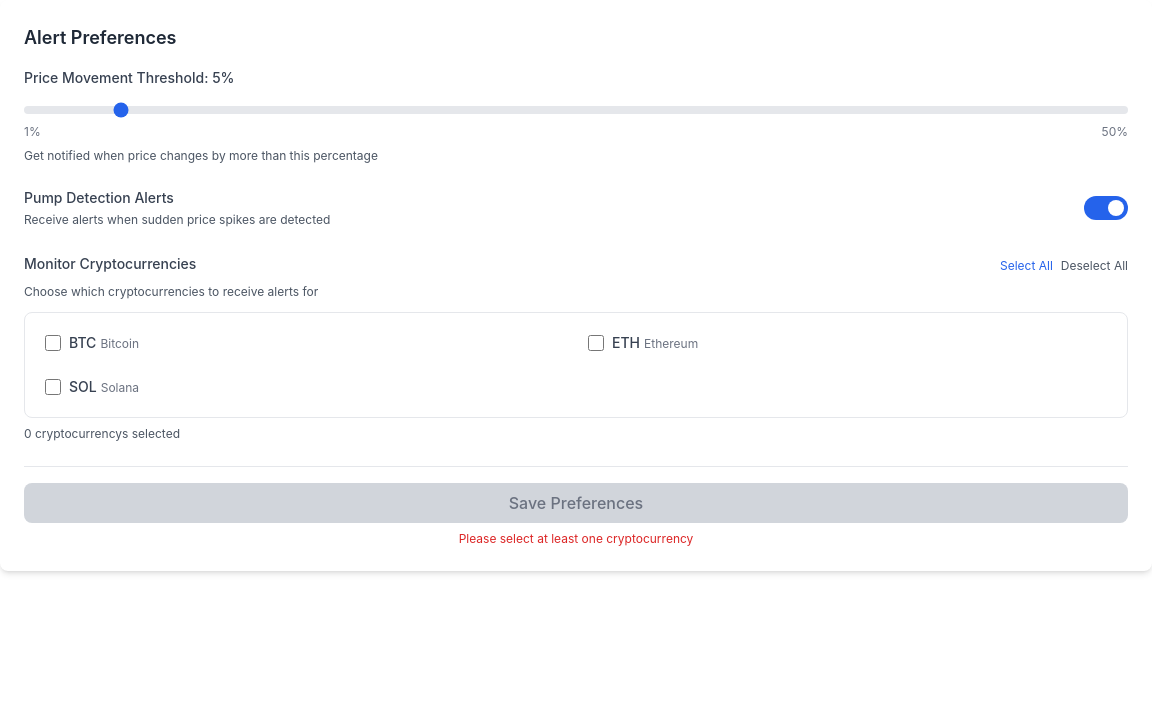
AlertPreferences › should save preferences to API when save button is clicked
Expected: the text "Price Movement Threshold: 5%" is shown, 24,69 -> 234,86
# Change threshold
Set the slider to "15": (343, 110) 24,106 -> 1128,114
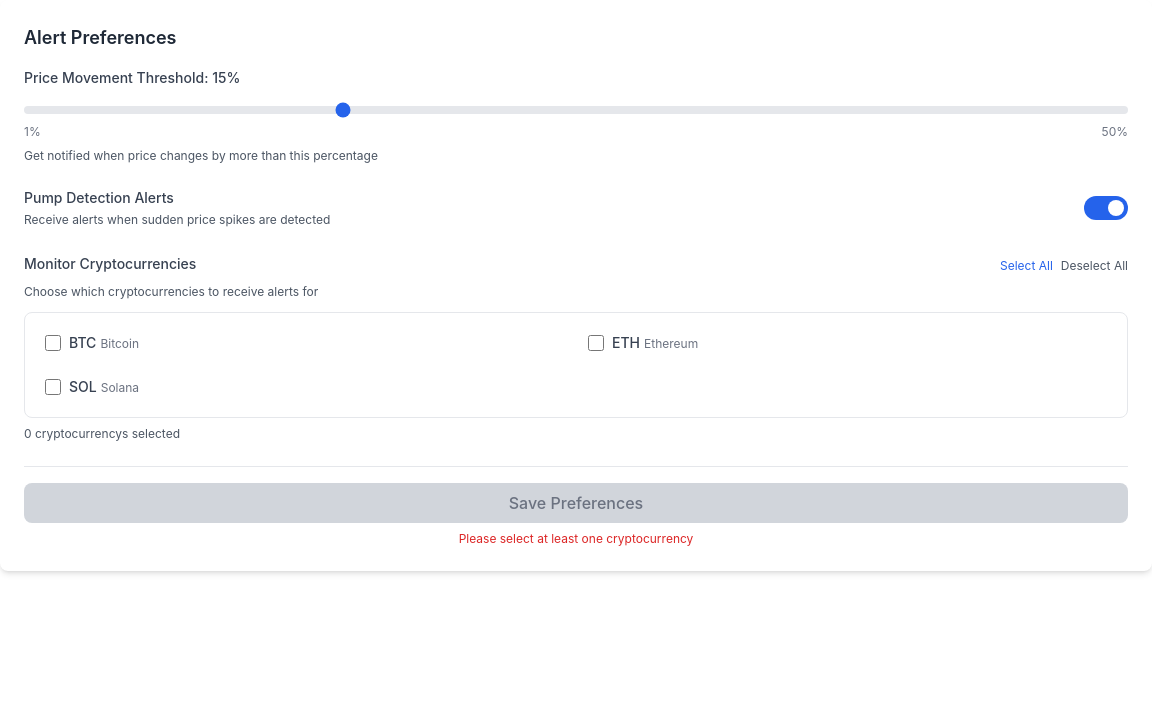
# Disable pump alerts
Click the 1st button: (1106, 208) 1084,196 -> 1128,220
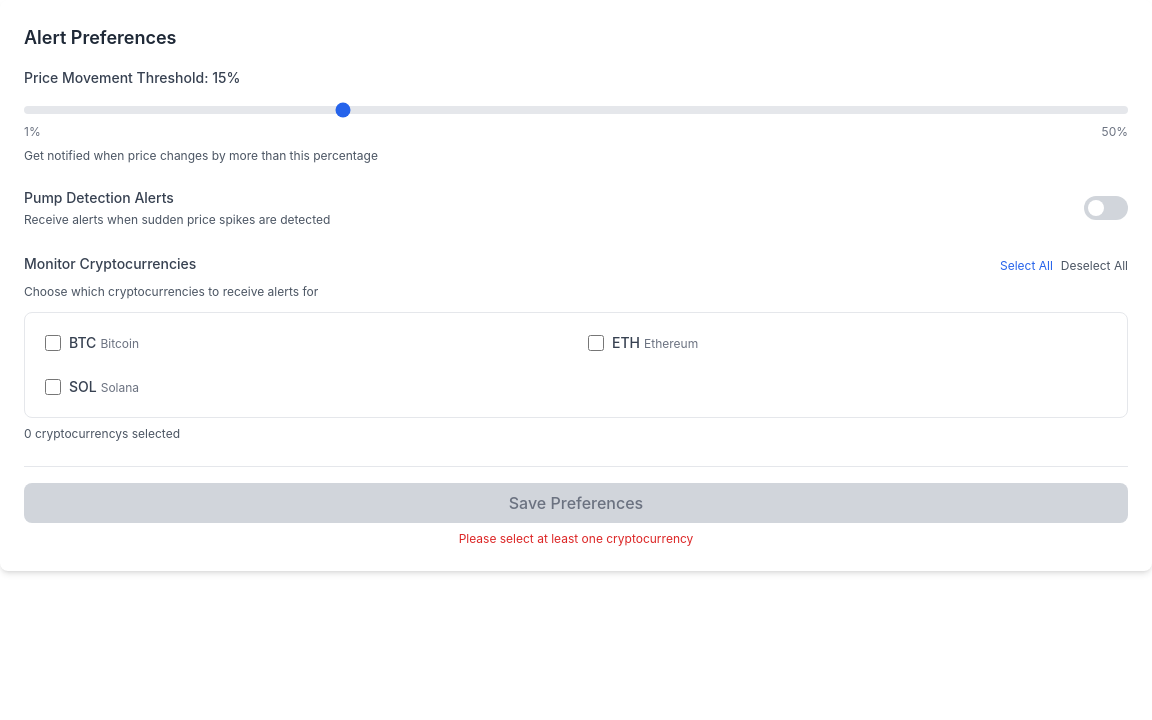
# Select cryptocurrencies
Click the checkbox labelled "BTC": (53, 343) 45,335 -> 61,351
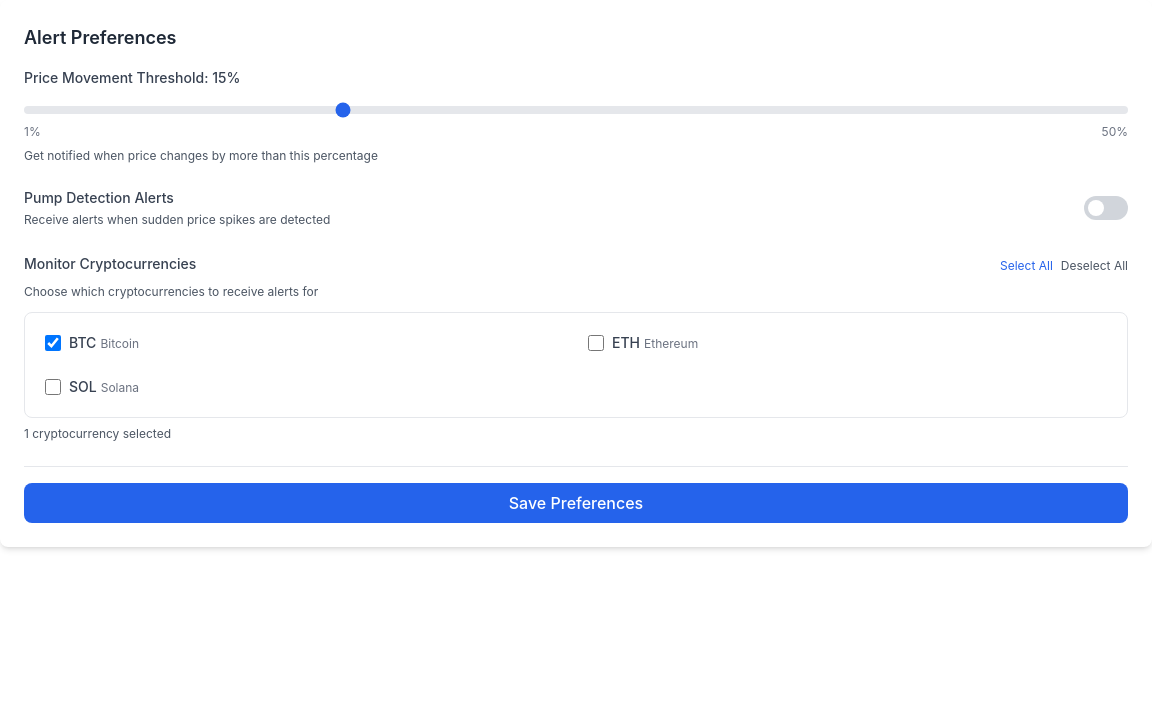
Click the checkbox labelled "ETH": (596, 343) 588,335 -> 604,351
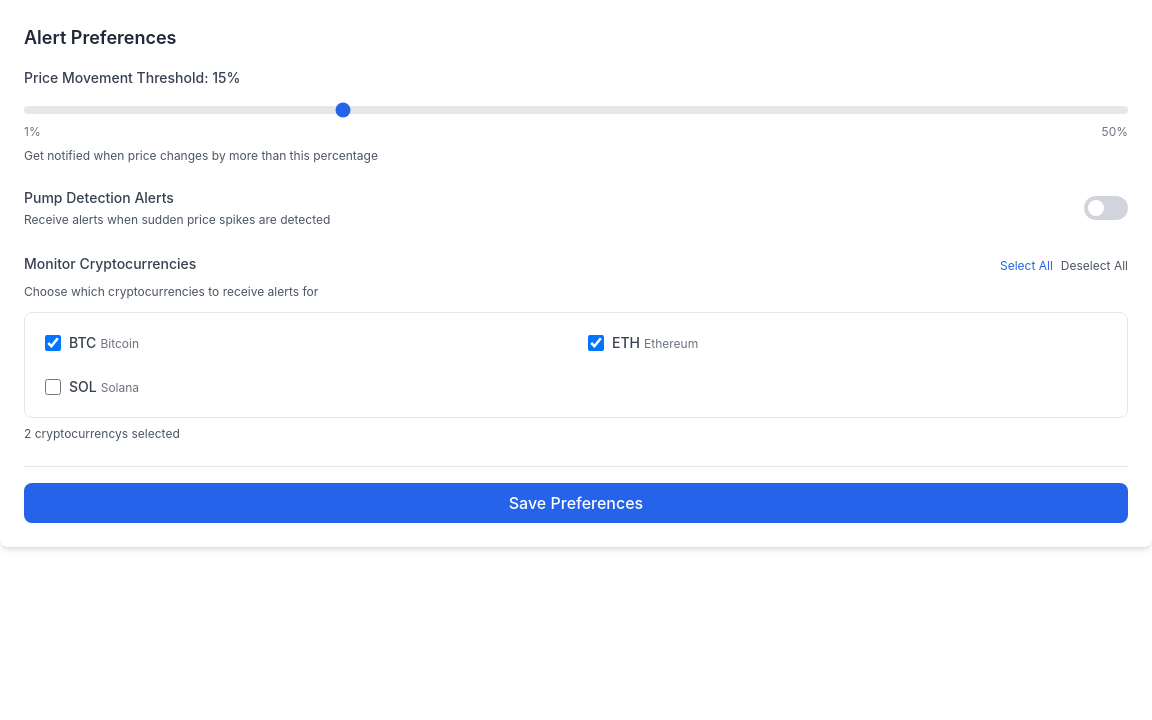
# Click save
Click the button "Save Preferences": (576, 503) 24,483 -> 1128,523
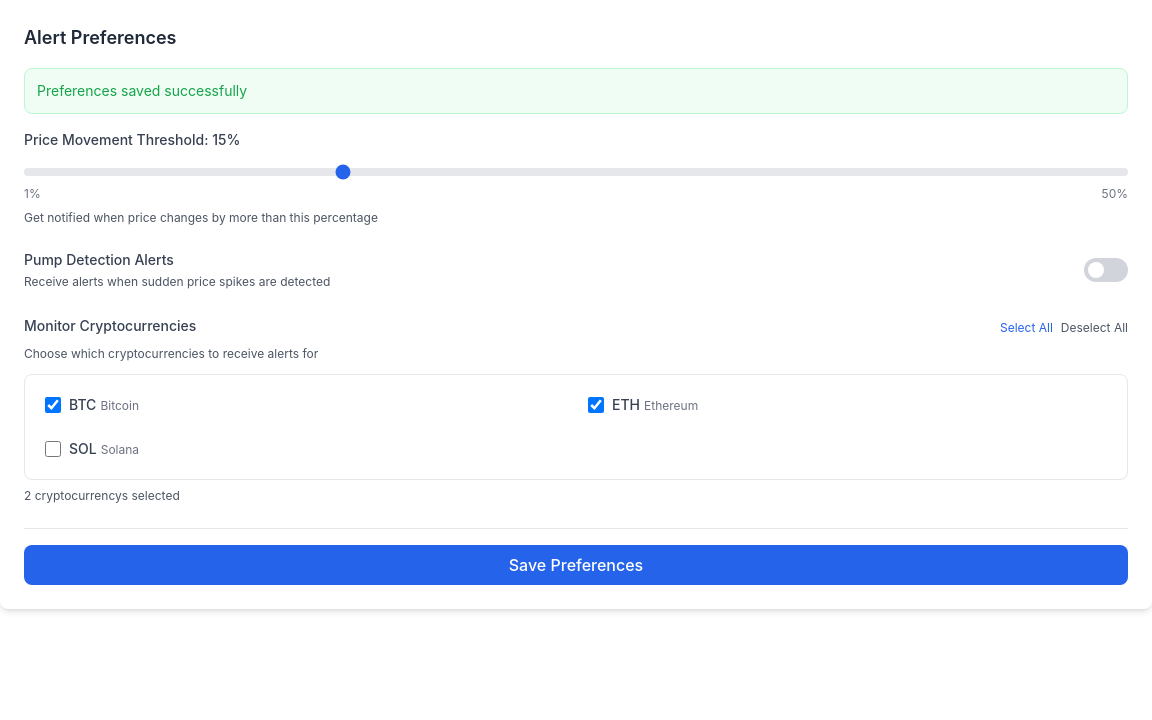
Expected: the text "Preferences saved successfully" is shown, 37,82 -> 247,99
